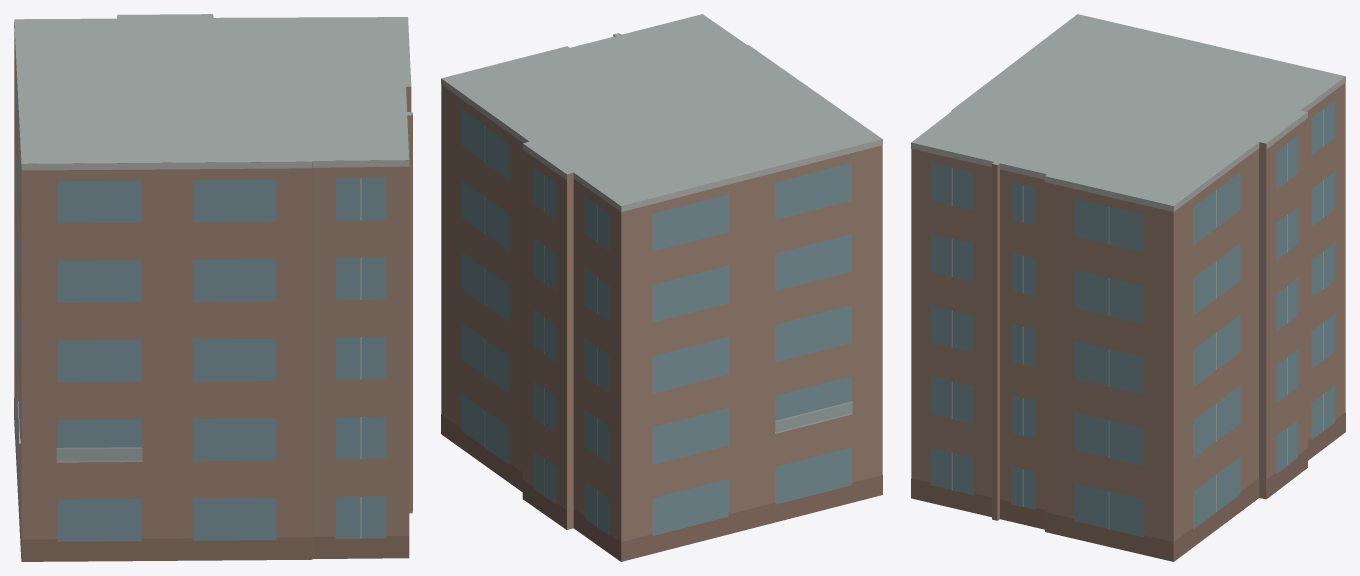
Rendered from survey-upis-32870648.glb.
3 renders of one model, left to right at view 1: azimuth 30°, elevation 25°; view 2: azimuth 150°, elevation 25°; view 3: azimuth 270°, elevation 25°, orthographic. The views are drawn at different scales.
Parts seen in each view (by area): view 1: survey-upis-32870648.tmp; view 2: survey-upis-32870648.tmp; view 3: survey-upis-32870648.tmp.
Boxes of the visible parts, x1,y1,x2,y2 form: survey-upis-32870648.tmp: (14, 14, 412, 561); survey-upis-32870648.tmp: (441, 14, 882, 561); survey-upis-32870648.tmp: (911, 14, 1345, 561).
Size of the model in its own units: 16.92 by 14.6 by 16.18.
